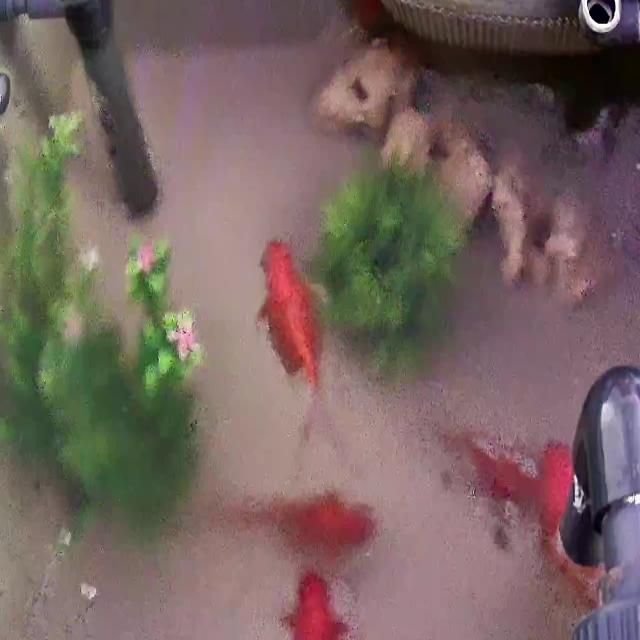fish: (257, 236, 321, 397), (230, 490, 371, 550), (459, 436, 545, 516), (274, 567, 348, 640), (536, 442, 575, 541), (352, 0, 388, 32)
